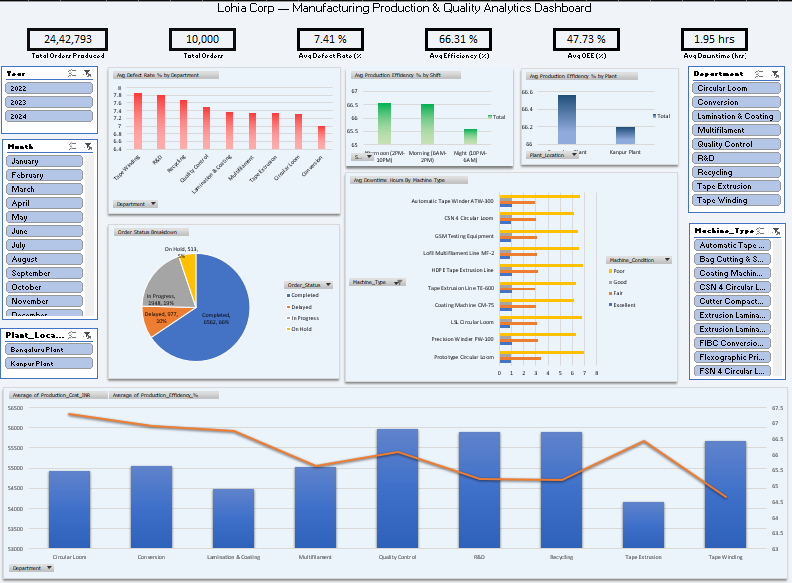

The dashboard page shown, as its layout file describes it:
{"tool":"powerbi","page":{"name":"Main Dashboard","canvas":[1900,900],"ordinal":1},"visuals":[{"type":"shape","box":[1600,0,300,900],"z":500},{"type":"shape","box":[1336,170,248,106],"z":1000},{"type":"shape","box":[1022,170,248,106],"z":2000},{"type":"shape","box":[674,170,248,106],"z":3000},{"type":"shape","box":[346,170,248,106],"z":4000},{"type":"shape","box":[14,170,248,106],"z":5000},{"type":"shape","box":[0,68,1600,102],"z":6000},{"type":"textbox","box":[0,0,1600,46],"z":7000},{"type":"cardVisual","fields":{"Data":["Measure.Avg Defect Rate %"]},"box":[692,188,246,102],"z":8000},{"type":"cardVisual","fields":{"Data":["Measure.Avg Production Efficiency %"]},"box":[1344,186,256,102],"z":9000},{"type":"cardVisual","fields":{"Data":["Measure.Avg Downtime Hours"]},"box":[1036,188,250,102],"z":10000},{"type":"slicer","fields":{"Values":["Lohia_Corp_Data.Year"]},"box":[28,78,220,66],"z":11000},{"type":"slicer","fields":{"Values":["Lohia_Corp_Data.Department"]},"box":[706,78,218,66],"z":12000},{"type":"slicer","fields":{"Values":["Lohia_Corp_Data.Plant Location"]},"box":[1350,78,218,66],"z":13000},{"type":"actionButton","box":[0,0,100,40],"z":14000},{"type":"cardVisual","fields":{"Data":["Measure.Target Achievement %"]},"box":[28,186,244,104],"z":15000},{"type":"cardVisual","fields":{"Data":["Measure.Delayed Orders %"]},"box":[362,188,244,104],"z":16000},{"type":"gauge","title":"Production Target Achievement %","fields":{"Y":["Measure.Target Achievement %"]},"box":[14,314,348,276],"z":17000},{"type":"slicer","fields":{"Values":["Lohia_Corp_Data.Month Name"]},"box":[374,78,220,66],"z":18000},{"type":"slicer","fields":{"Values":["Lohia_Corp_Data.Machine Type"]},"box":[1036,78,218,66],"z":19000},{"type":"areaChart","title":"Defect Rate Trend Over Time","fields":{"Category":["Lohia_Corp_Data.Month Name"],"Y":["Measure.Avg Defect Rate %"],"Series":["Lohia_Corp_Data.Year"]},"box":[391.9,614.5,530.6,285.5],"z":20000},{"type":"lineChart","title":"Monthly Production Trend & Forecast","fields":{"Y":["Measure.Total Units Charts"],"Category":["Lohia_Corp_Data.Production Date.Variation.Date Hierarchy.Year","Lohia_Corp_Data.Production Date.Variation.Date Hierarchy.Month"]},"box":[938,314,630,562],"z":21000},{"type":"scatterChart","title":"Defect Rate VS Downtime by Department","fields":{"X":["Measure.Avg Defect Rate %"],"Y":["Measure.Avg Downtime Hours"],"Series":["Lohia_Corp_Data.Department"],"Category":["Lohia_Corp_Data.Units Produced"]},"box":[16.1,600,346.8,300],"z":22000},{"type":"treemap","title":"Maintenance Required by Department","fields":{"Values":["Measure.Maintenance Count"],"Group":["Lohia_Corp_Data.Department"]},"box":[391.9,308.1,530.6,300],"z":23000},{"type":"pageNavigator","box":[1600,46,300,404],"z":24001}]}

Visuals, with their boxes on the page's 1900x900 design canvas (x1, y1, x2, y2). These are canvas units, not pixel positions in the 792x583 screenshot, which may show the page scaled, cropped or inside an application window:
shape: detection(1600, 0, 1900, 900)
shape: detection(1336, 170, 1584, 276)
shape: detection(1022, 170, 1270, 276)
shape: detection(674, 170, 922, 276)
shape: detection(346, 170, 594, 276)
shape: detection(14, 170, 262, 276)
shape: detection(0, 68, 1600, 170)
textbox: detection(0, 0, 1600, 46)
cardVisual - Measure.Avg Defect Rate %: detection(692, 188, 938, 290)
cardVisual - Measure.Avg Production Efficiency %: detection(1344, 186, 1600, 288)
cardVisual - Measure.Avg Downtime Hours: detection(1036, 188, 1286, 290)
slicer - Lohia_Corp_Data.Year: detection(28, 78, 248, 144)
slicer - Lohia_Corp_Data.Department: detection(706, 78, 924, 144)
slicer - Lohia_Corp_Data.Plant Location: detection(1350, 78, 1568, 144)
actionButton: detection(0, 0, 100, 40)
cardVisual - Measure.Target Achievement %: detection(28, 186, 272, 290)
cardVisual - Measure.Delayed Orders %: detection(362, 188, 606, 292)
"Production Target Achievement %" gauge: detection(14, 314, 362, 590)
slicer - Lohia_Corp_Data.Month Name: detection(374, 78, 594, 144)
slicer - Lohia_Corp_Data.Machine Type: detection(1036, 78, 1254, 144)
"Defect Rate Trend Over Time" areaChart: detection(392, 614, 922, 900)
"Monthly Production Trend & Forecast" lineChart: detection(938, 314, 1568, 876)
"Defect Rate VS Downtime by Department" scatterChart: detection(16, 600, 363, 900)
"Maintenance Required by Department" treemap: detection(392, 308, 922, 608)
pageNavigator: detection(1600, 46, 1900, 450)
